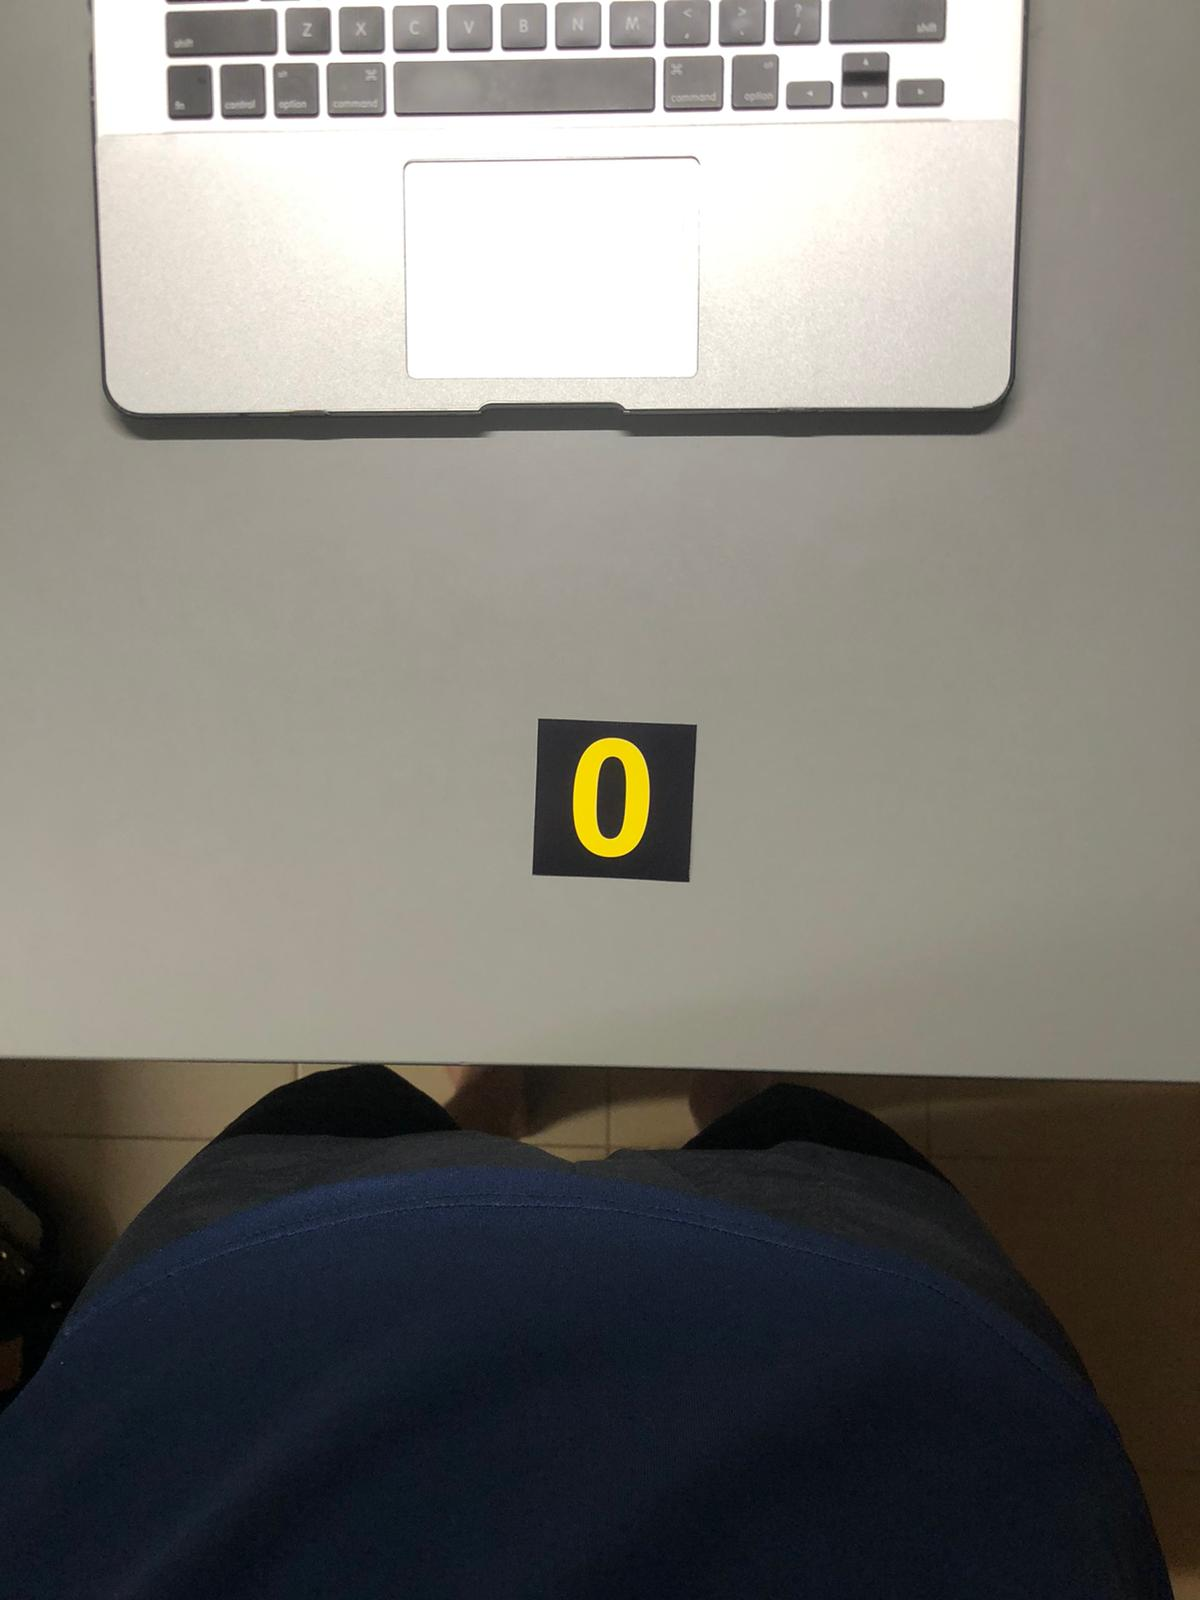Number 0: (539, 716, 695, 881)
